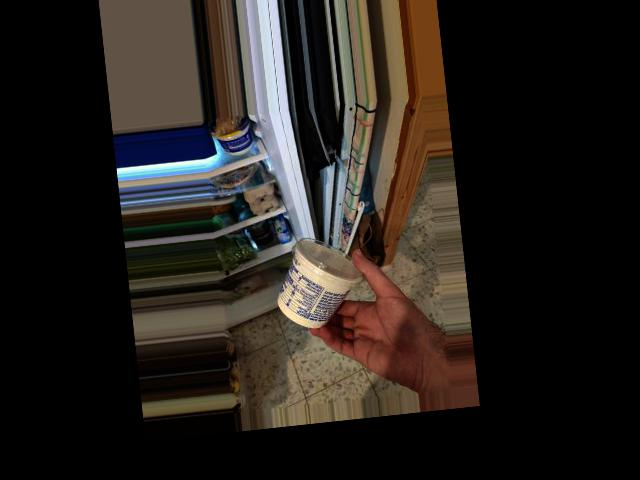cotage: (282, 243, 373, 329)
